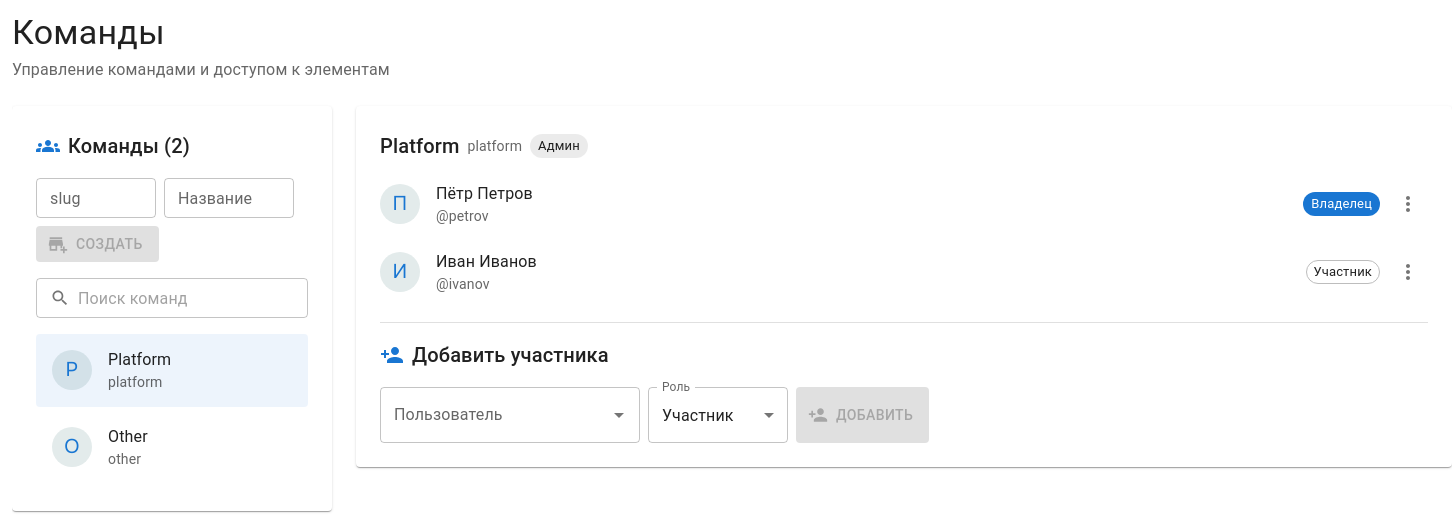
search filters teams by name and slug
Expected: the text "Platform" is shown, [108, 350, 171, 370]
Type "plat" into the field with placeholder "Поиск команд". click: [193, 298]
box: [78, 278, 308, 318]
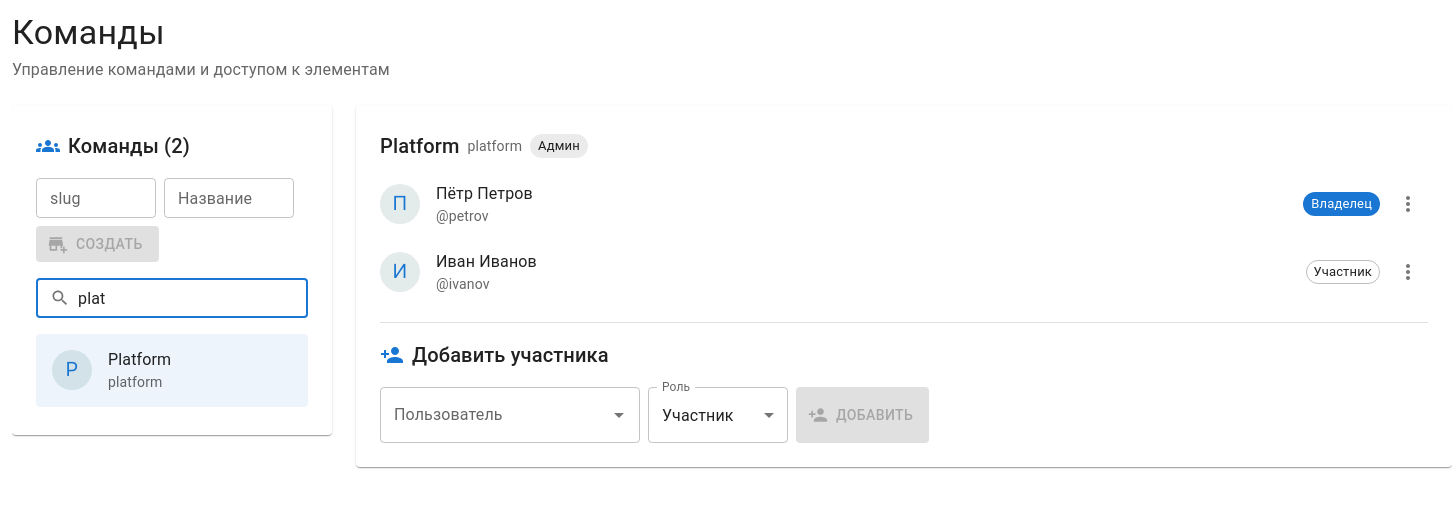
Expected: the text "Platform" is shown, [108, 350, 171, 370]
Result: the button "Other" is gone
Replace the text in the field with placeholder "Поиск команд" with "zzz". click: [193, 298]
box: [78, 278, 308, 318]
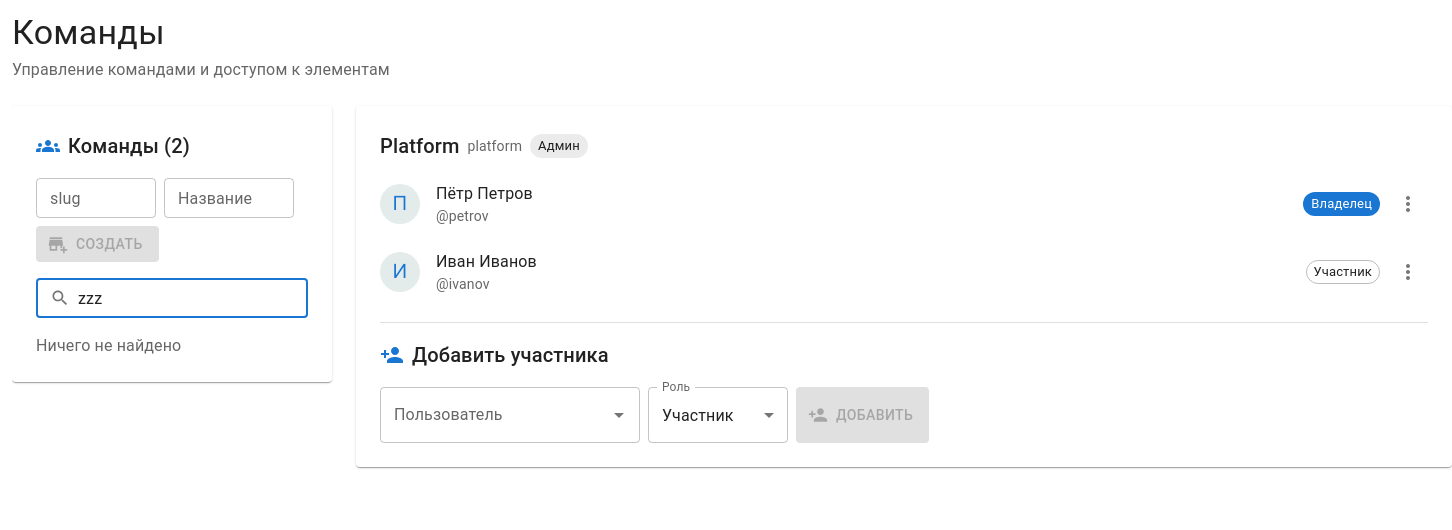
Result: the text "Ничего не найдено" is shown at [36, 336, 181, 356]
